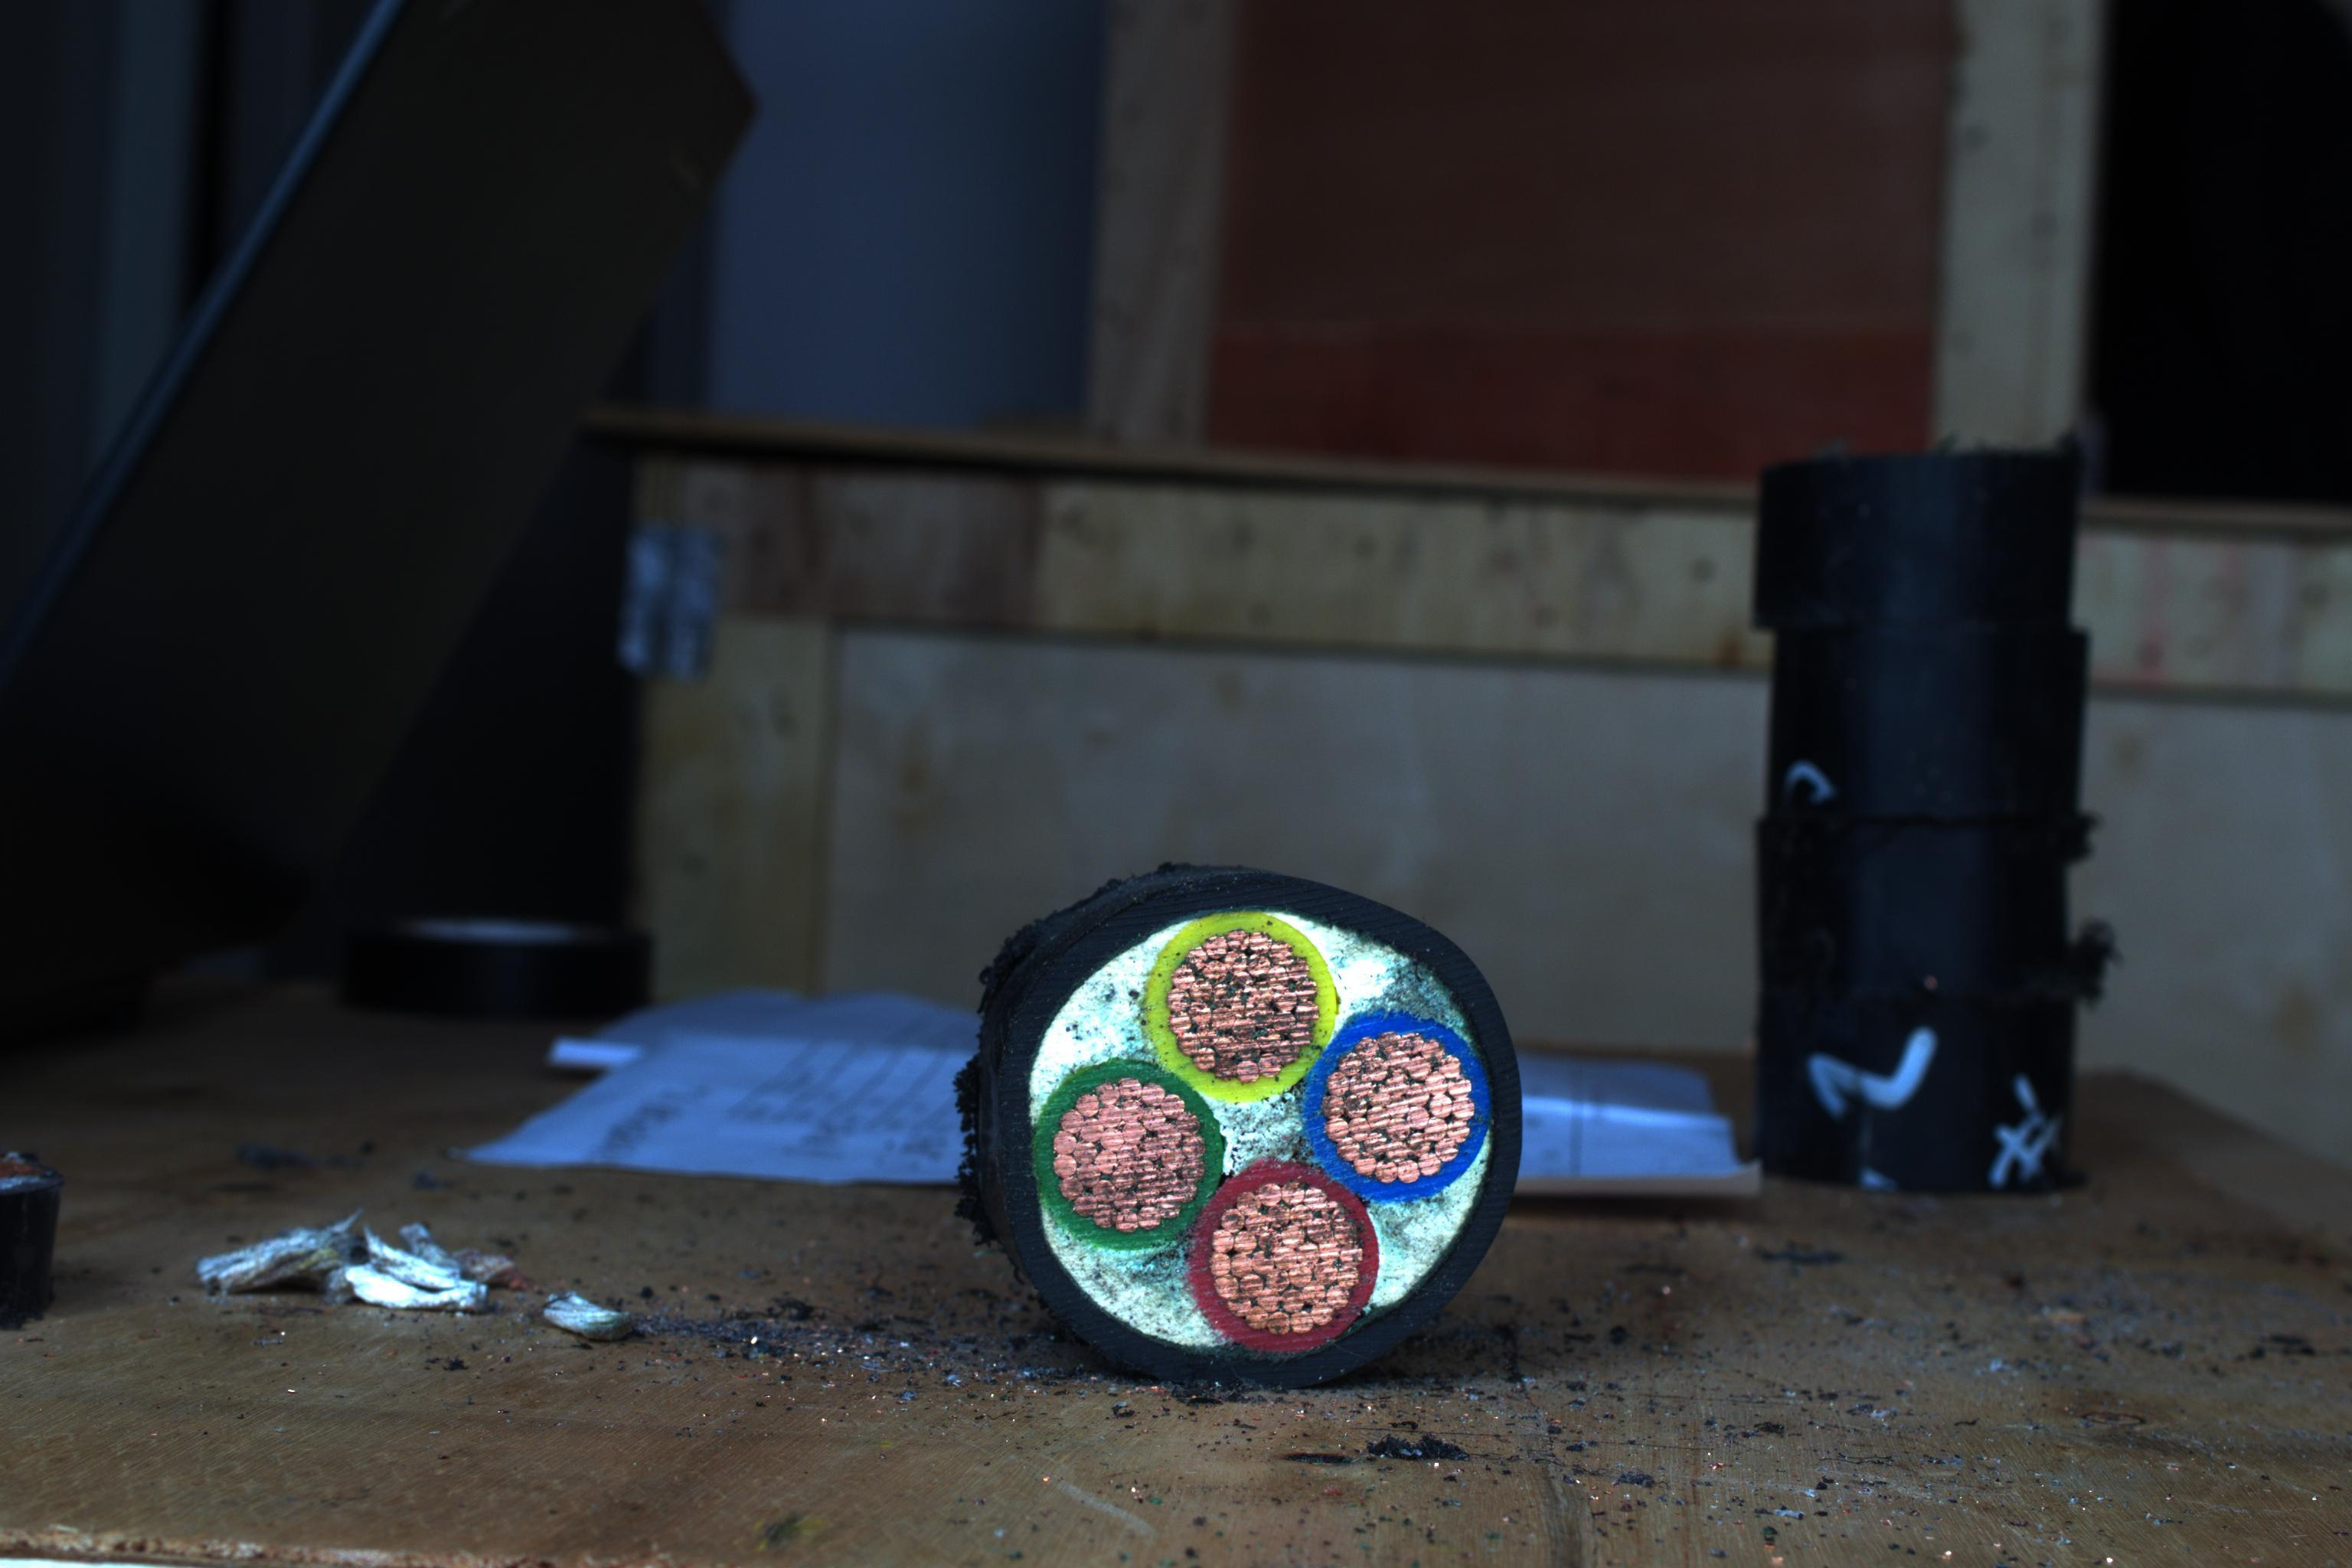YJV_0.6_1kV_4x185: (999, 880, 1526, 1358)
